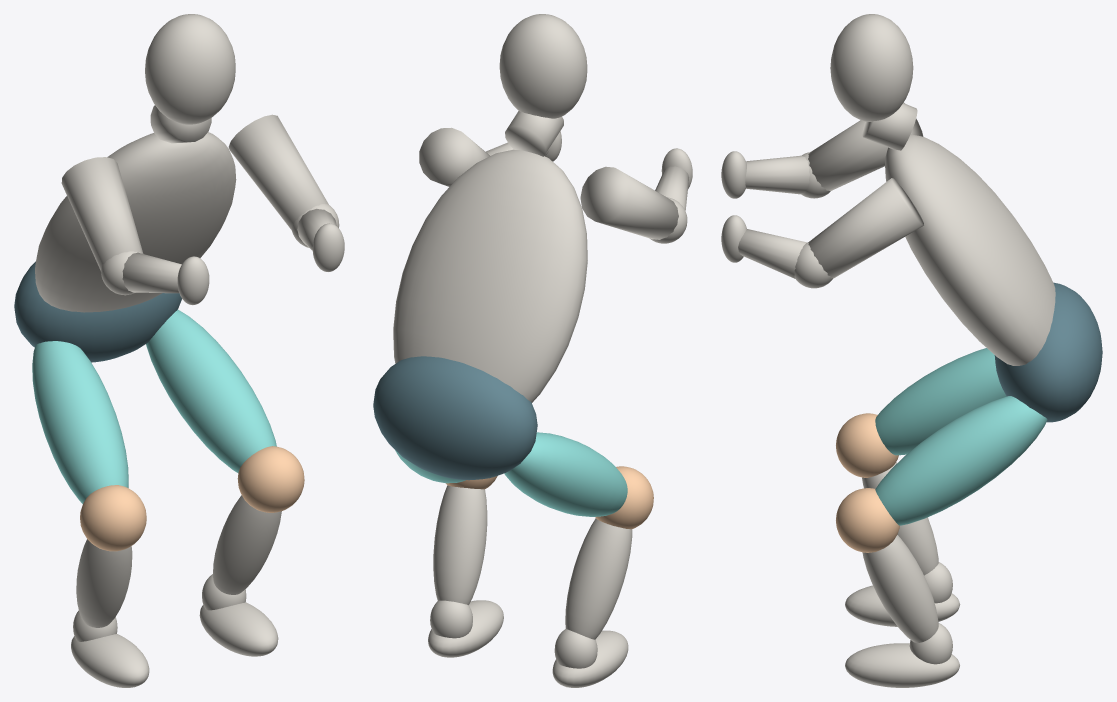
The model's file is movement-squat.glb.
3 views of the same model, side by side, from view 1: azimuth 30°, elevation 25°; view 2: azimuth 150°, elevation 25°; view 3: azimuth 270°, elevation 25° (orthographic). The views are drawn at different scales.
Visible parts, largest first — view 1: static #eee5d3, static #49bdb4, static #203c48, static #f2a066; view 2: static #eee5d3, static #203c48, static #49bdb4, static #f2a066; view 3: static #eee5d3, static #49bdb4, static #203c48, static #f2a066.
Part boxes in pixels (x1,y1,x2,y2): static #eee5d3: (35,14,344,687); static #49bdb4: (32,309,276,503); static #203c48: (14,261,181,362); static #f2a066: (80,446,304,551); static #eee5d3: (393,14,692,687); static #203c48: (373,356,537,480); static #49bdb4: (395,432,627,516); static #f2a066: (446,466,653,529); static #eee5d3: (721,14,1055,687); static #49bdb4: (875,348,1047,525); static #203c48: (994,282,1102,422); static #f2a066: (836,413,899,552).
Bounding box in the file's own units: 0.144 × 0.3895 × 0.2115.
